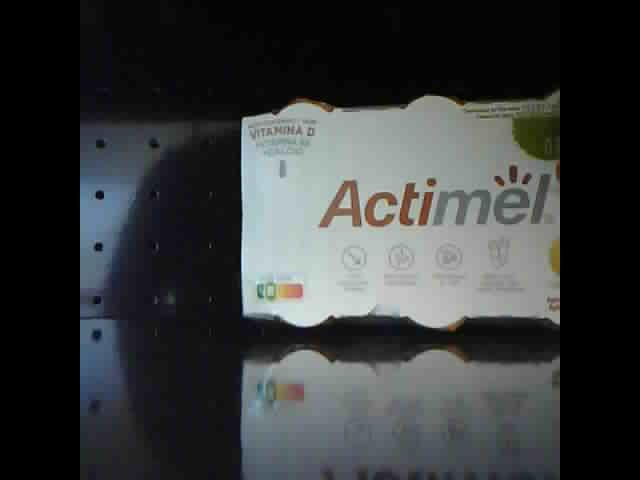actimel: (240, 89, 561, 331)
